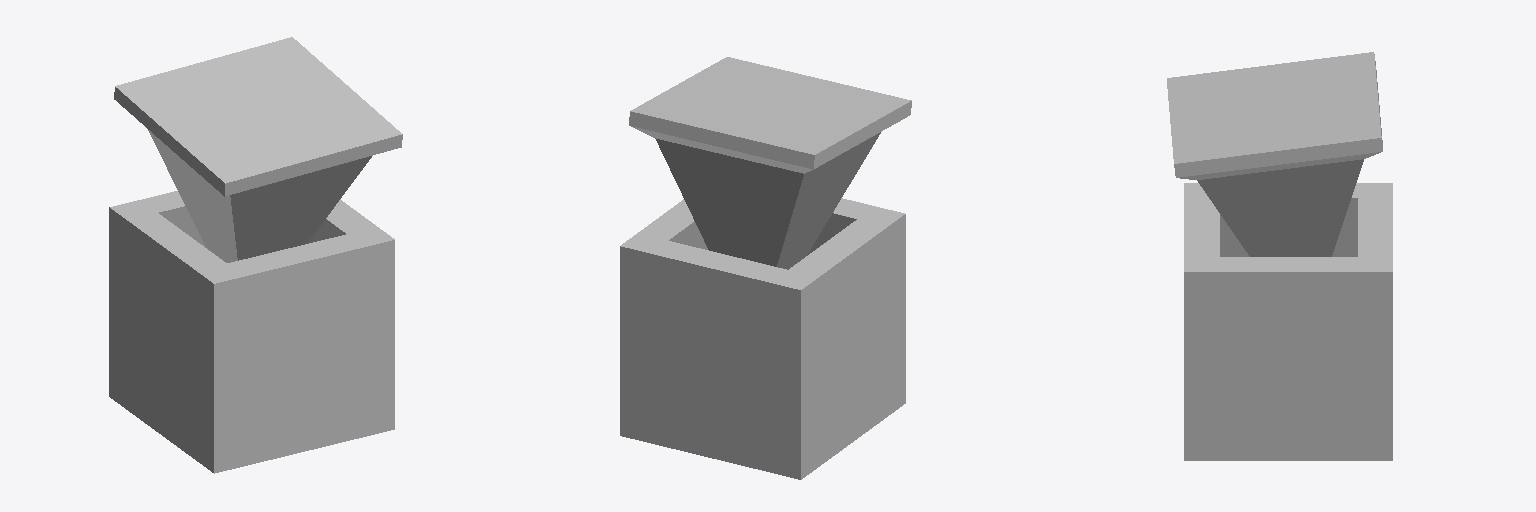
File: AnimatedBox_000142.obj
3 renders of one model, left to right at view 1: azimuth 30°, elevation 25°; view 2: azimuth 150°, elevation 25°; view 3: azimuth 270°, elevation 25°, orthographic.
Visible parts, largest first — view 1: Cube, Cube.001; view 2: Cube, Cube.001; view 3: Cube, Cube.001.
Boxes of the visible parts, <box> form: Cube: <box>109,191,394,473</box>; Cube.001: <box>114,37,402,262</box>; Cube: <box>620,198,905,479</box>; Cube.001: <box>629,57,911,269</box>; Cube: <box>1184,183,1392,460</box>; Cube.001: <box>1167,52,1382,256</box>.
Bounding box in the file's own units: 2.07 × 3.39 × 2.17.